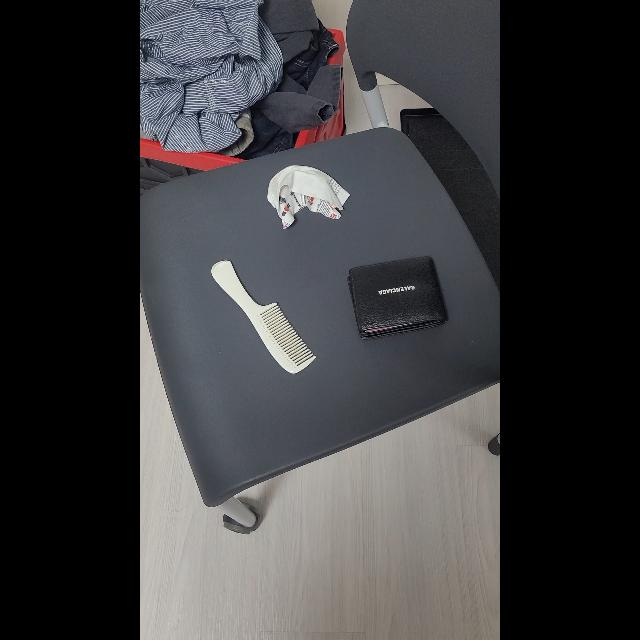COMB: (211, 260, 315, 374)
Glasses cleaning cloth: (267, 166, 349, 228)
WALLET: (348, 256, 448, 340)
